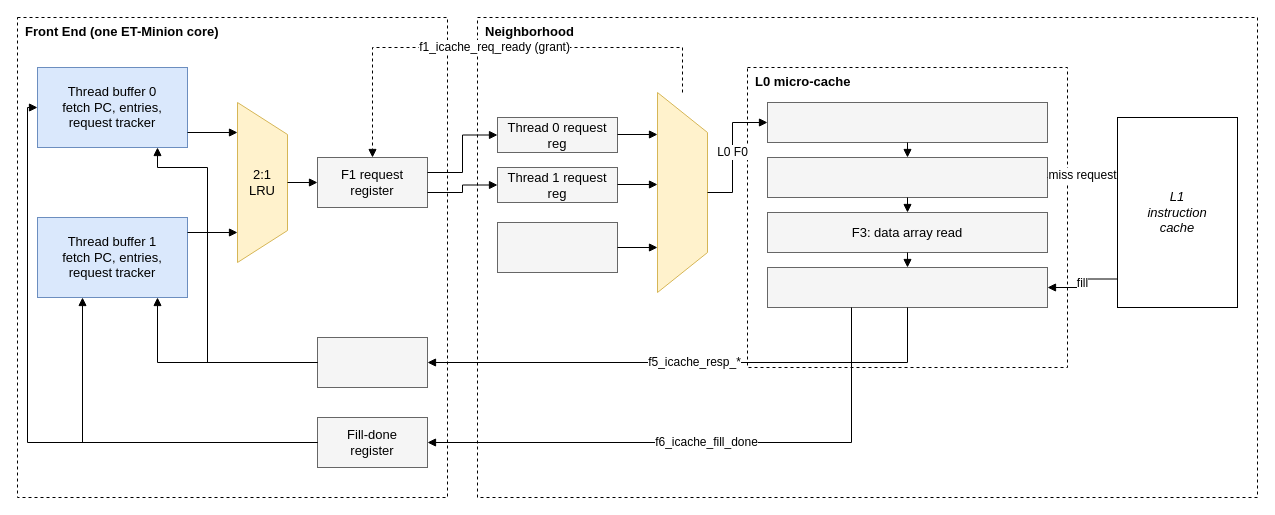
The diagram is 1275 pixels wide and 515 high, and some of its shapes have lost their labels. The shapes that lost their labels are listed below. From the top down, each one's centre as x and y in pixels, then its label:
point (907, 122): F1: TLB lookup
point (682, 192): 8:1 LRU
point (907, 177): F2: tag lookup, PMA check, LRU
point (557, 247): 6 request regs of 3 other cores
point (907, 287): F4: response
point (372, 362): F6 response register
